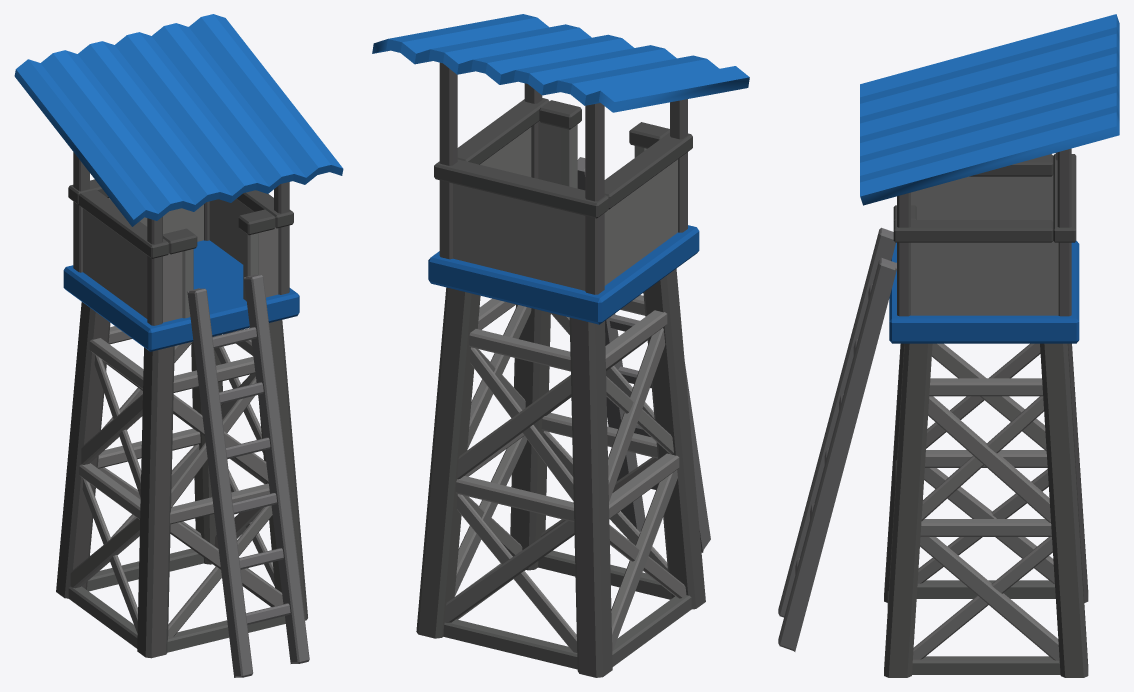
The model's file is WatchTower_1_D.fbx.
3 views of the same model, side by side, from view 1: azimuth 30°, elevation 25°; view 2: azimuth 150°, elevation 25°; view 3: azimuth 270°, elevation 25° (orthographic). The views are drawn at different scales.
Visible parts, largest first — view 1: WatchTower_1_D; view 2: WatchTower_1_D; view 3: WatchTower_1_D.
Part boxes in pixels (x1,y1,x2,y2): WatchTower_1_D: [14, 14, 343, 677]; WatchTower_1_D: [372, 14, 749, 677]; WatchTower_1_D: [778, 14, 1119, 677].
Bounding box in the file's own units: 236 × 564 × 305.
